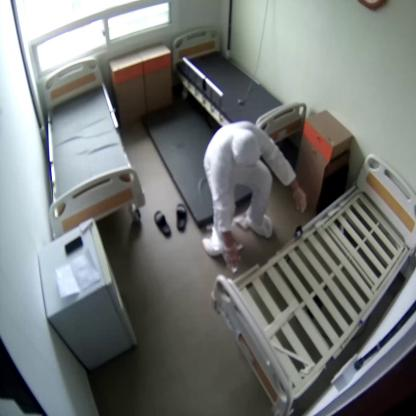Person: (203, 122, 307, 272)
